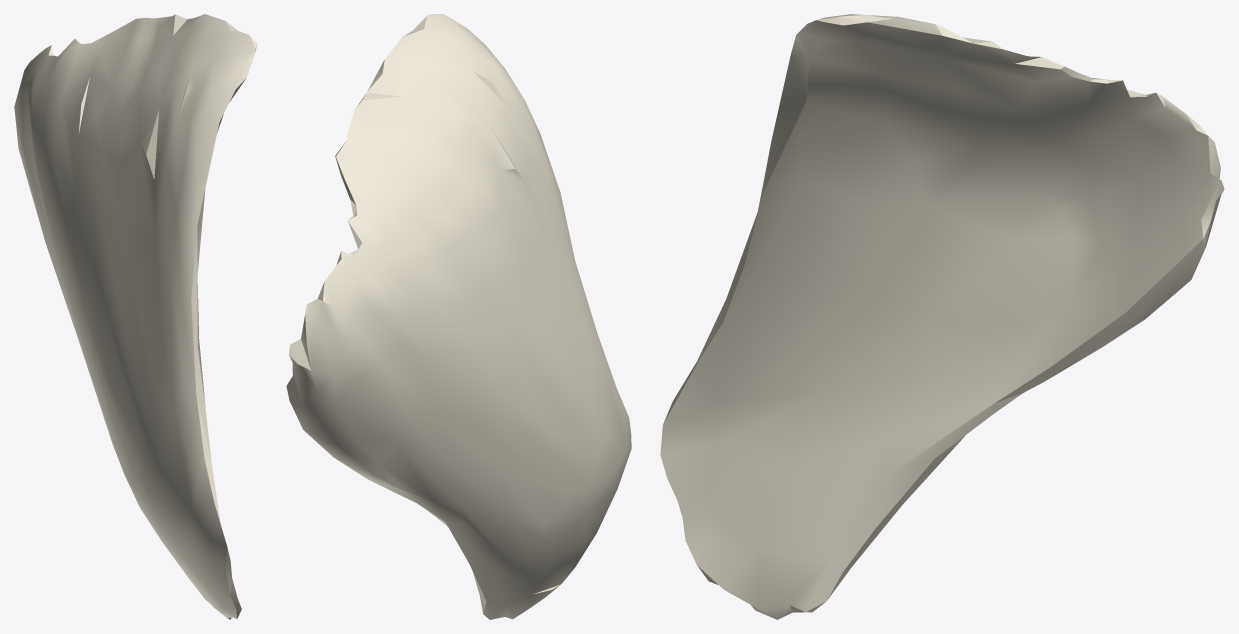
The model's file is fma321712-l_mm1473.glb.
3 views of the same model, side by side, from view 1: azimuth 30°, elevation 25°; view 2: azimuth 150°, elevation 25°; view 3: azimuth 270°, elevation 25° (orthographic). The views are drawn at different scales.
Visible parts, largest first — view 1: FMA321712-L_MM1473; view 2: FMA321712-L_MM1473; view 3: FMA321712-L_MM1473.
Part boxes in pixels (box(x1,y1,x2,y2)): FMA321712-L_MM1473: box(14, 14, 257, 619); FMA321712-L_MM1473: box(286, 14, 631, 619); FMA321712-L_MM1473: box(660, 14, 1224, 619).
Bounding box in the file's own units: 0.00375 × 0.0153 × 0.0124.
